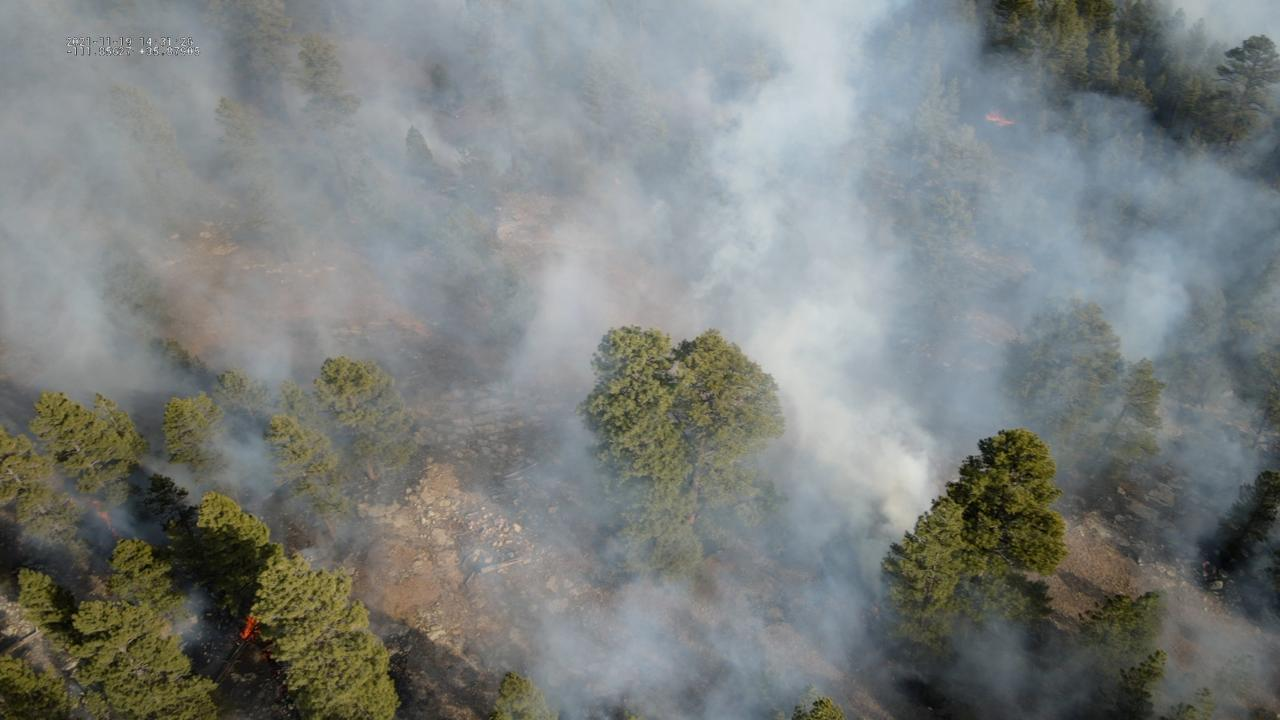fire: (94, 508, 120, 542), (982, 111, 1017, 130), (237, 613, 260, 641)
smoke: (0, 0, 1280, 720)
